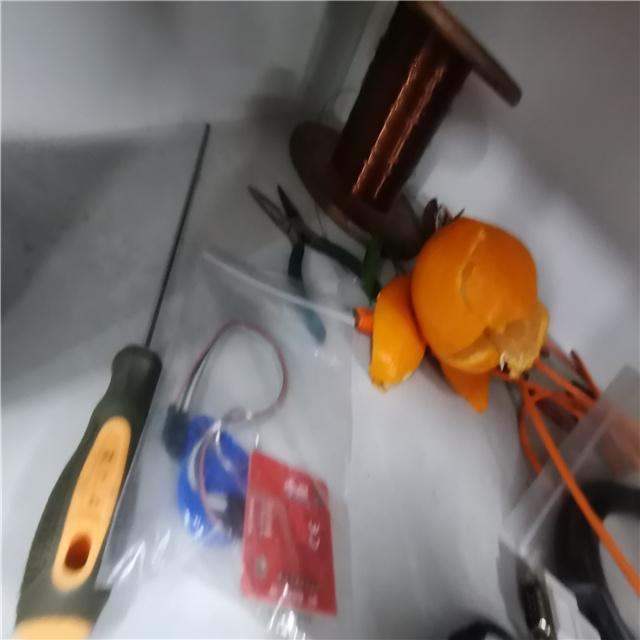orange-peel: (358, 213, 550, 412)
